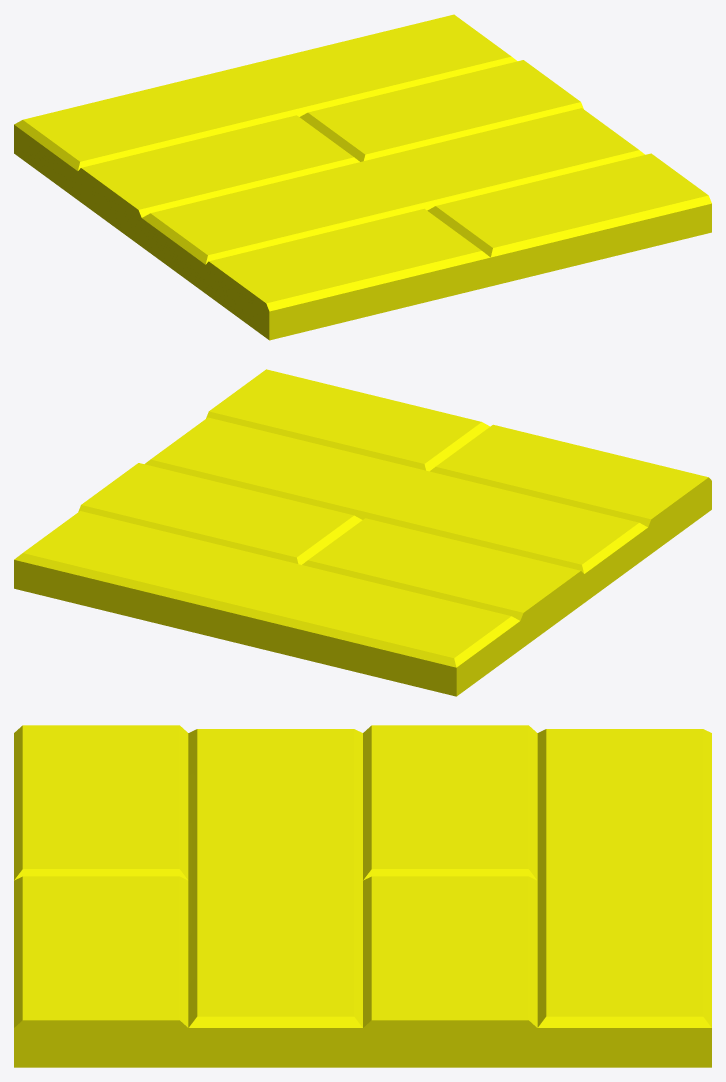
File: kaykit-floor-wood-small.glb
3 views of the same model, one above another, from view 1: azimuth 30°, elevation 25°; view 2: azimuth 150°, elevation 25°; view 3: azimuth 270°, elevation 25° (orthographic). The views are drawn at different scales.
Parts seen in each view (by area): view 1: floor_wood_small; view 2: floor_wood_small; view 3: floor_wood_small.
Boxes of the visible parts, x1,y1,x2,y2 form: floor_wood_small: (14,14,711,340); floor_wood_small: (14,369,711,696); floor_wood_small: (14,725,711,1067).
Size of the model in its own units: 2 by 0.1499 by 2.
